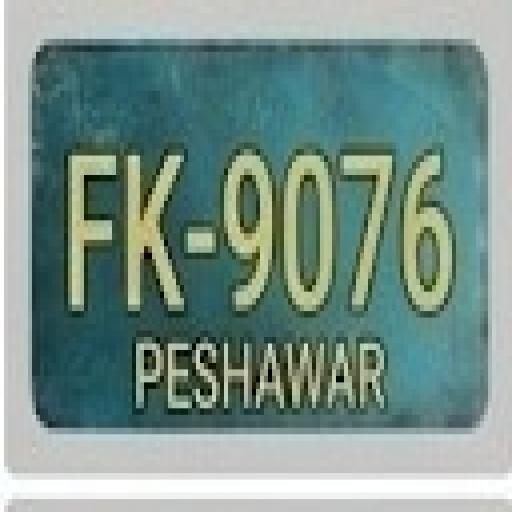0: (283, 146, 331, 317)
6: (402, 145, 456, 334)
7: (337, 145, 393, 318)
9: (222, 150, 271, 324)
F: (61, 157, 117, 320)
K: (119, 148, 190, 319)
